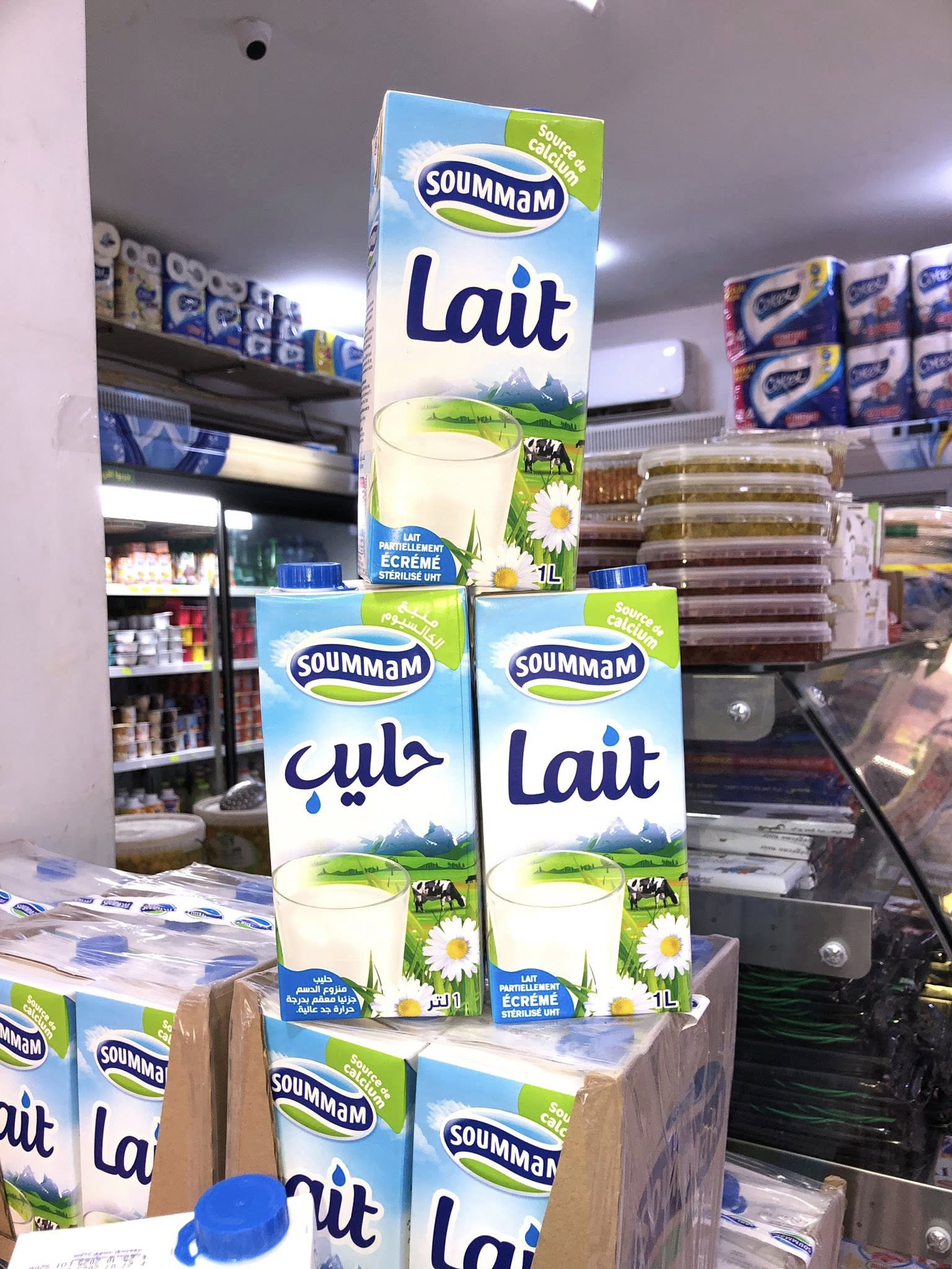soummam_milk: (343, 82, 614, 594), (238, 560, 488, 1024), (470, 560, 710, 1026)
